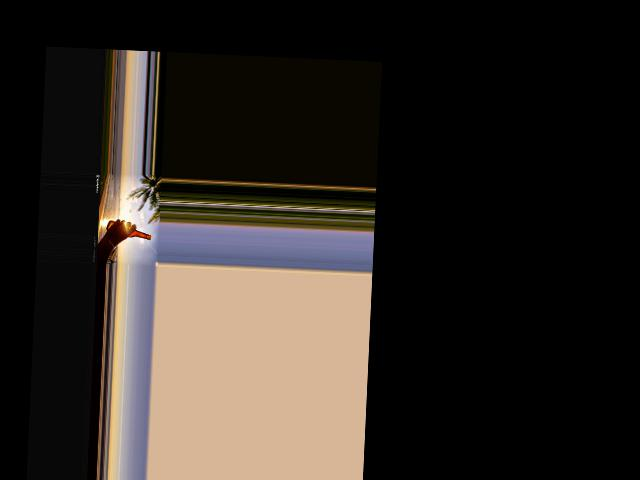beer: (105, 220, 151, 240)
